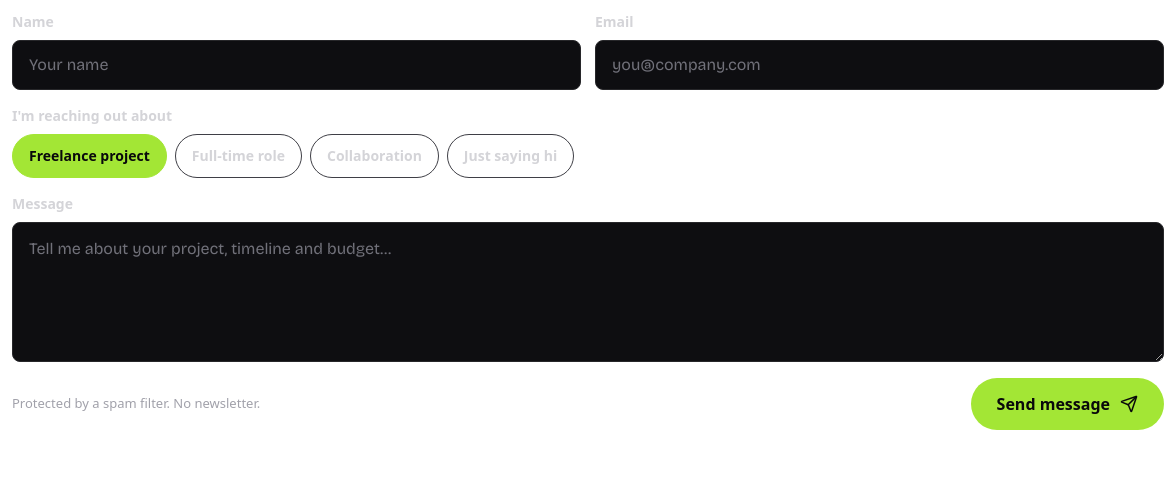
ContactForm › shows server errors
In the field labelled "Name": (296, 65) [12, 40, 581, 90], type "Ana Putri"
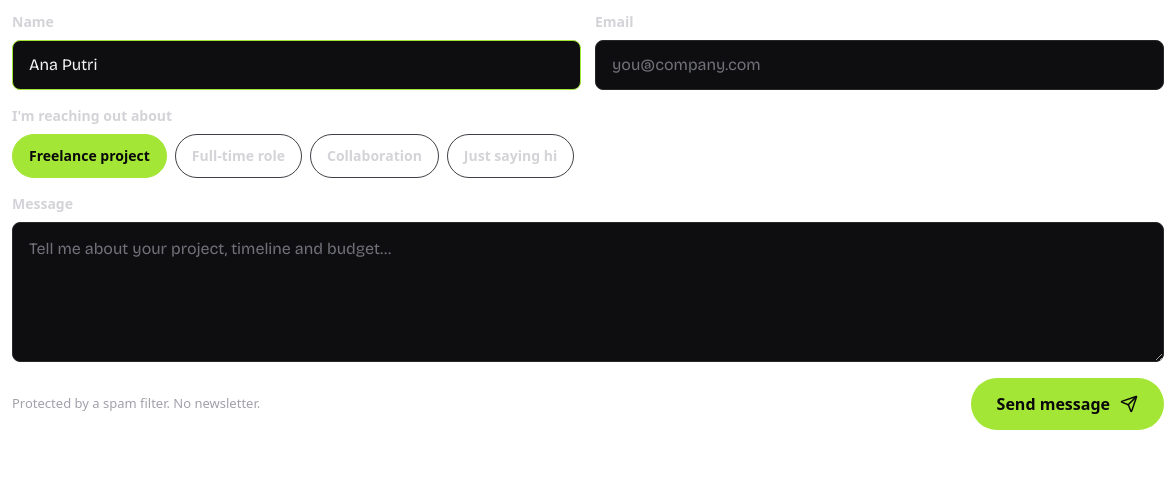
In the field labelled "Email": (880, 65) [595, 40, 1164, 90], type "ana@example.com"
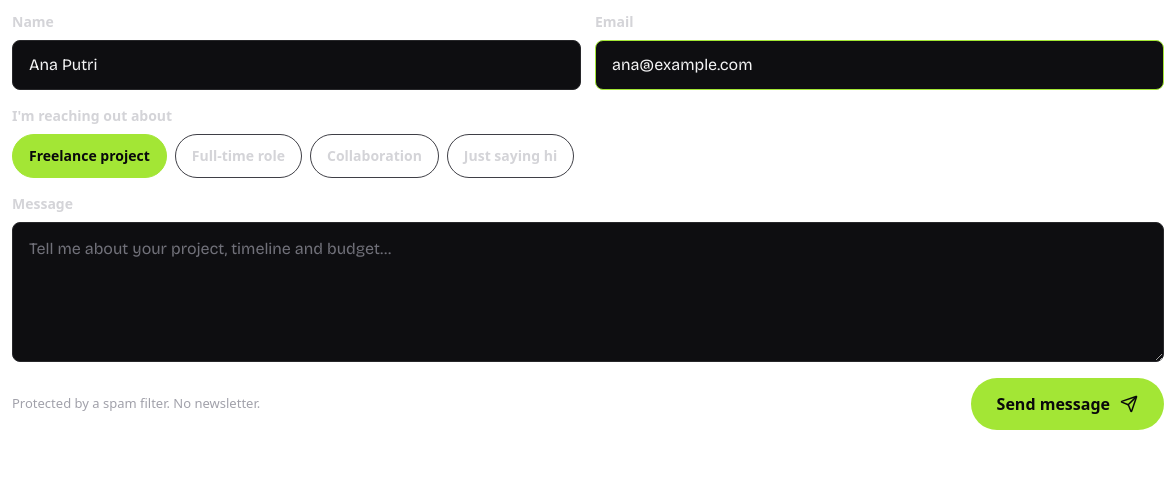
In the text box labelled "Message": (588, 292) [12, 222, 1164, 362], type "I need a dashboard built."
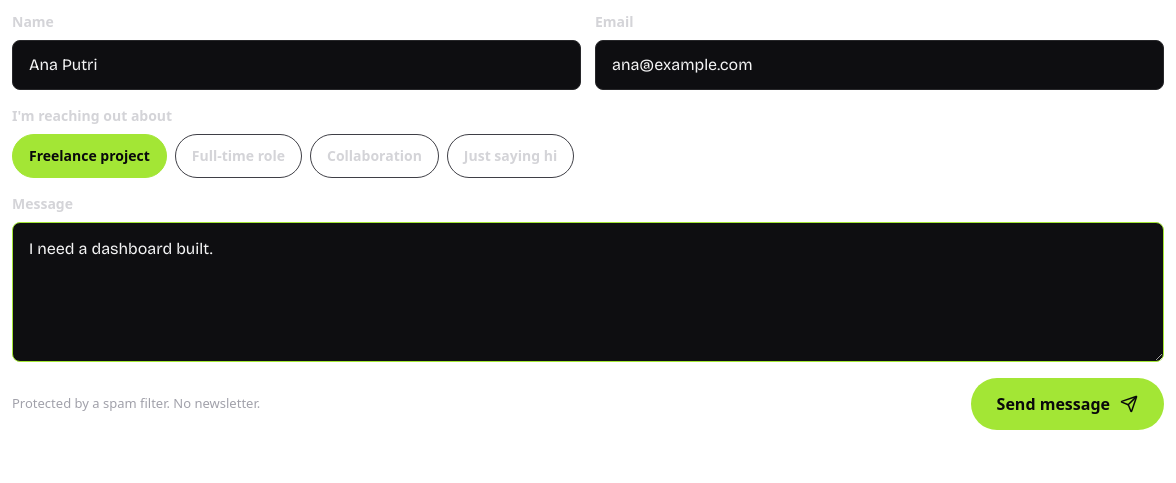
Click the button "Send message": (1067, 404) [971, 378, 1164, 430]
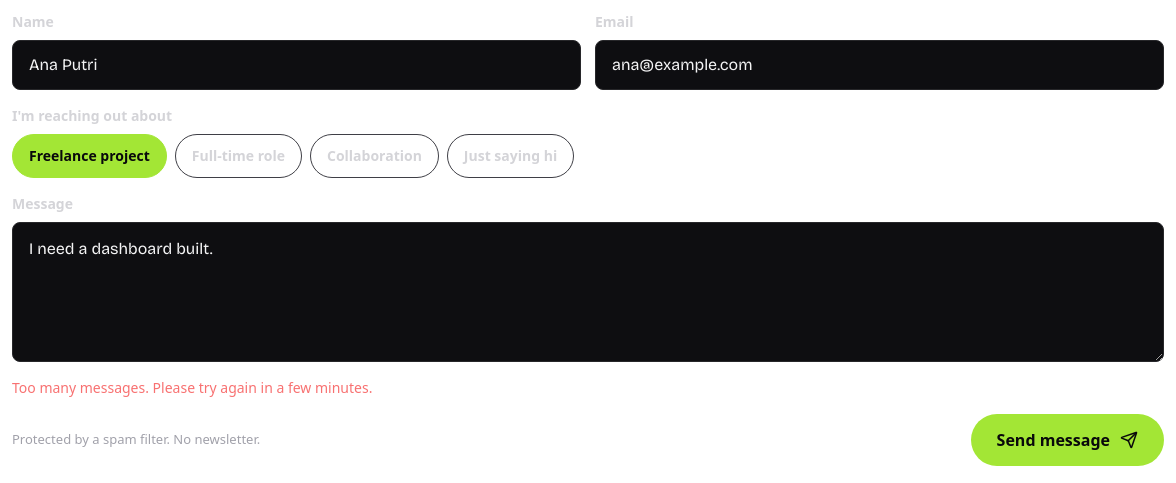
Expected: the message shows "Too many messages", [12, 378, 372, 397]
